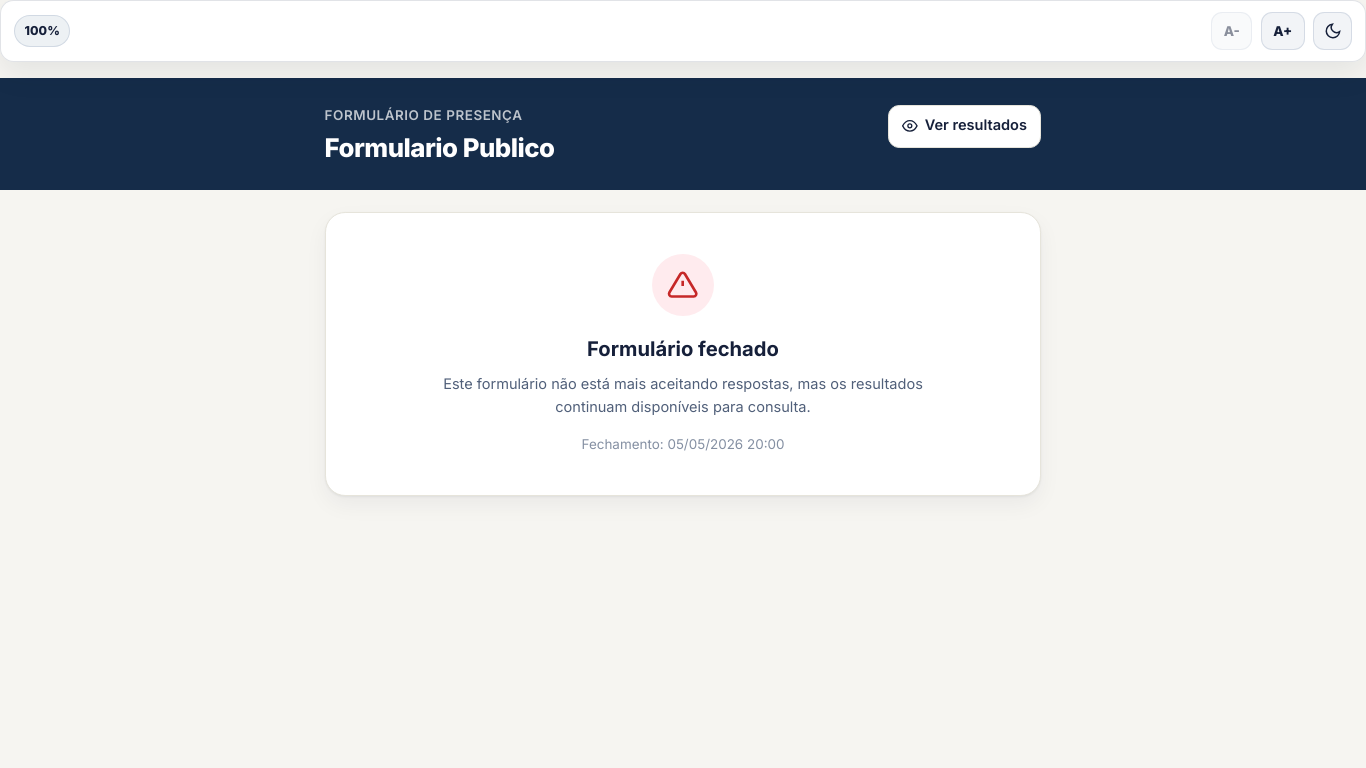
Test case: App public data flow › mantem botao de resultados no formulario publico fechado quando habilitado
The width and height of the screenshot is (1366, 768).
Expected: the heading "Formulário fechado" is shown, 587,336 -> 779,361
Expected: the text "Este formulário não está mais aceitando respostas, mas os resultados continuam disponíveis para consulta." is shown, 443,375 -> 923,416
Click the button "Ver resultados" at (965, 126), box 888,105 -> 1041,148
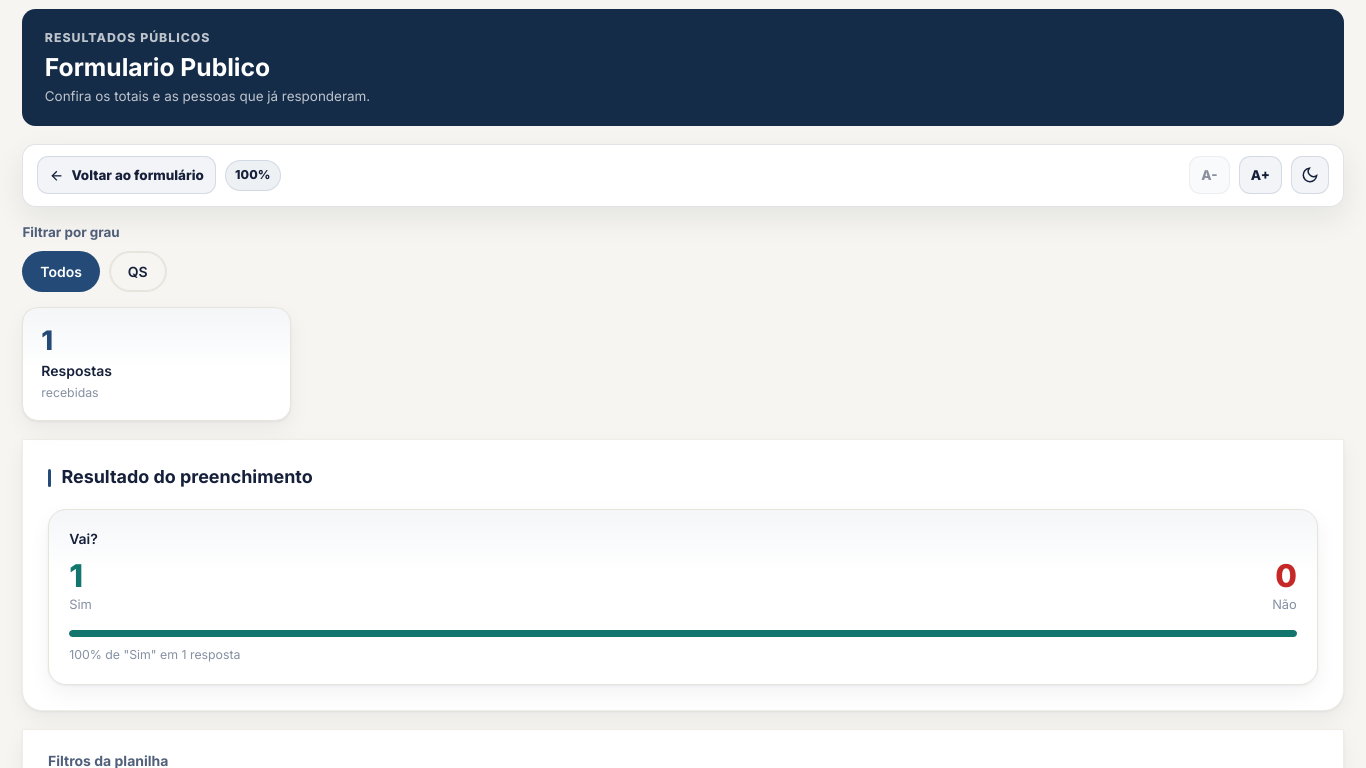
Expected: the text "Resultado do preenchimento" is shown, 62,466 -> 313,488
Expected: the button "Voltar ao formulário" is shown, 37,156 -> 216,194
